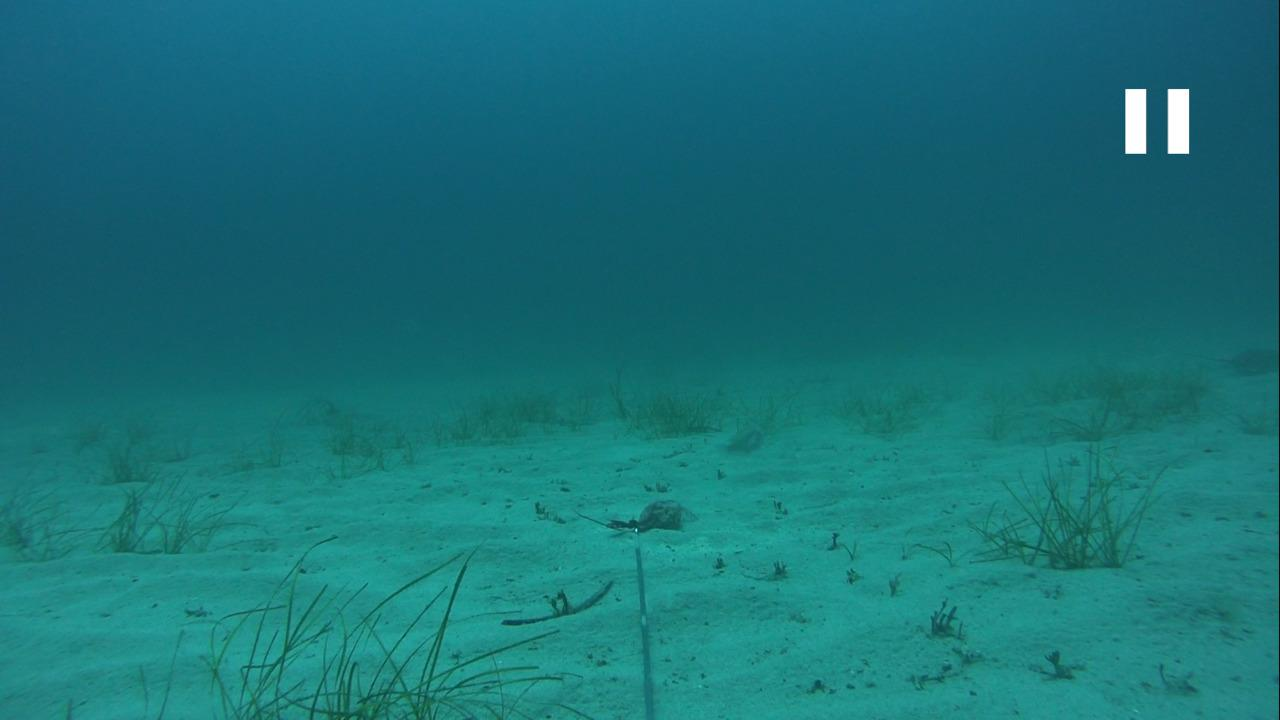myliobatis: (1181, 338, 1279, 387)
raor: (711, 423, 769, 465)
